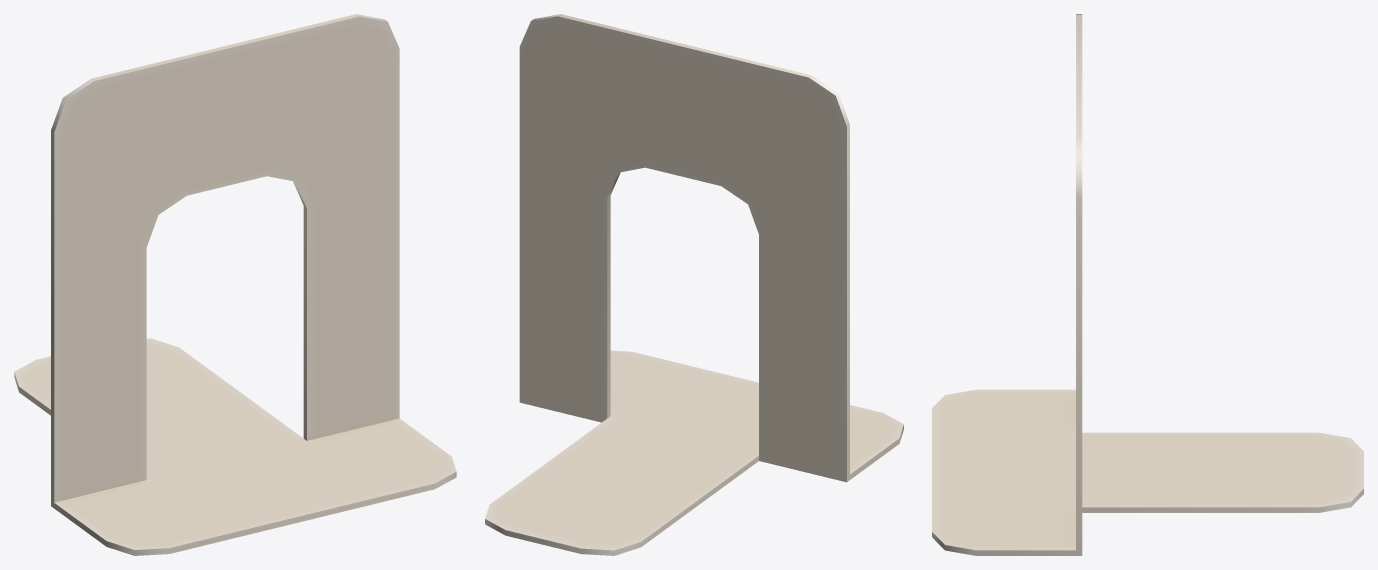
Rendered from jsf_BookEnd_03.fbx.
3 views of the same model, side by side, from view 1: azimuth 30°, elevation 25°; view 2: azimuth 150°, elevation 25°; view 3: azimuth 270°, elevation 25° (orthographic). The views are drawn at different scales.
Parts seen in each view (by area): view 1: jsf_BookEnd_03; view 2: jsf_BookEnd_03; view 3: jsf_BookEnd_03.
Part boxes in pixels (box(x1,y1,x2,y2)): jsf_BookEnd_03: box(14, 14, 456, 555); jsf_BookEnd_03: box(485, 14, 903, 555); jsf_BookEnd_03: box(932, 14, 1363, 555).
Size of the model in its own units: 11.77 by 13.6 by 13.36.
